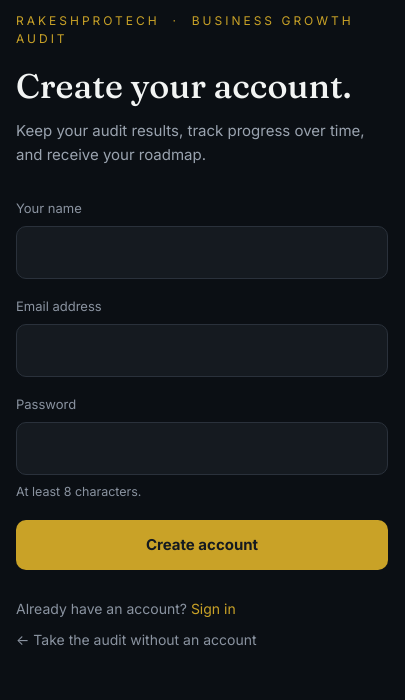
Test: AuthForm — register › signs up and asks the user to confirm when no session is returned
Step 1. Type "Jane" into the field labelled "Your name" → (202, 253), box [16,226,388,279]
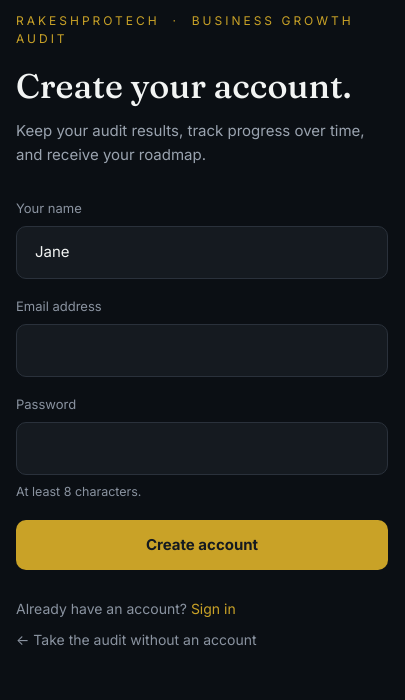
Step 2. Type "jane@co.com" into the field labelled "Email address" → (202, 351), box [16,324,388,377]
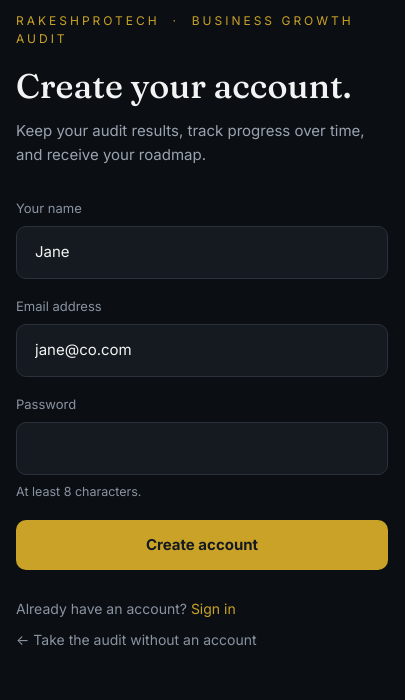
Step 3. Type "longenough1" into the password field labelled "Password" → (202, 449), box [16,422,388,475]
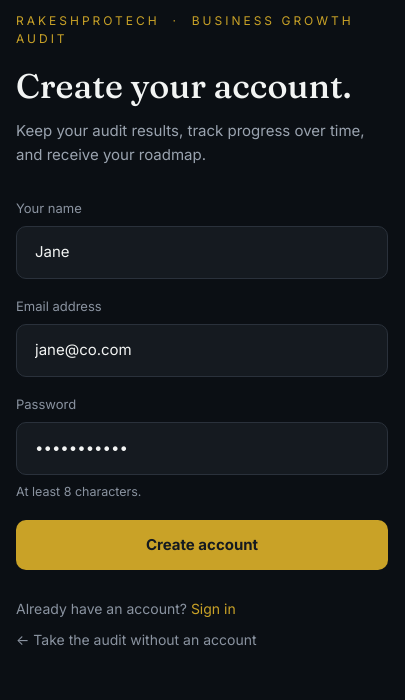
Step 4. Click the button "Create account" → (202, 545), box [16,520,388,570]
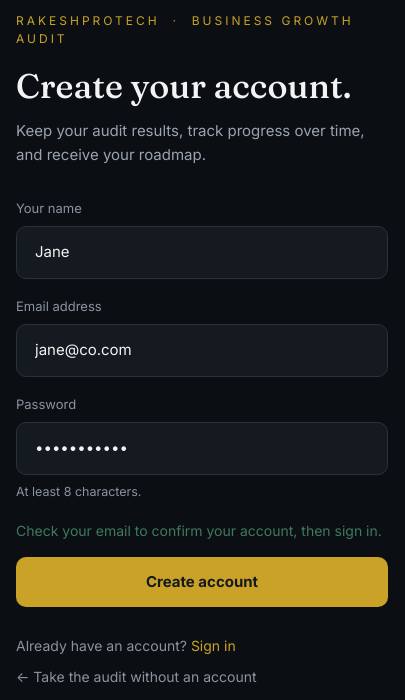
Expected: the message shows "Check your email", [16,522,382,538]
